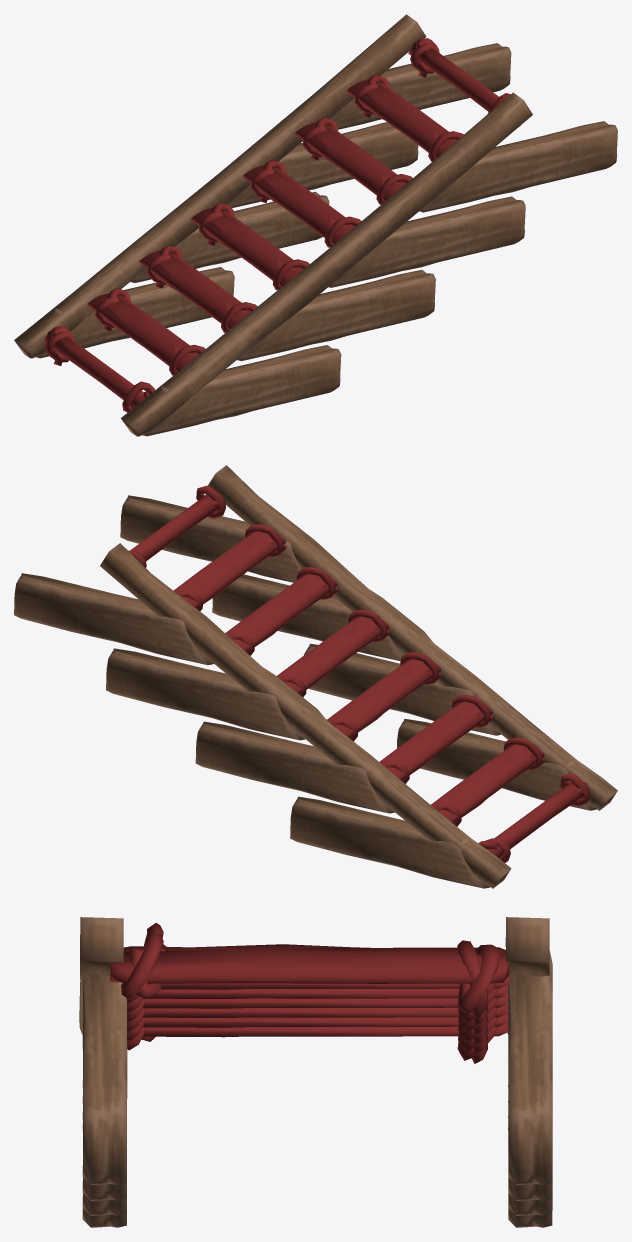
Rendered from SM_stairs.fbx.
3 renders of one model, top to bottom at view 1: azimuth 30°, elevation 25°; view 2: azimuth 150°, elevation 25°; view 3: azimuth 270°, elevation 25°, orthographic. The views are drawn at different scales.
Visible parts, largest first — view 1: stairs; view 2: stairs; view 3: stairs.
Boxes of the visible parts, <box> form: stairs: <box>14,14,617,436</box>; stairs: <box>14,465,617,888</box>; stairs: <box>79,917,552,1227</box>.
Bounding box in the file's own units: 387 × 189 × 163.
